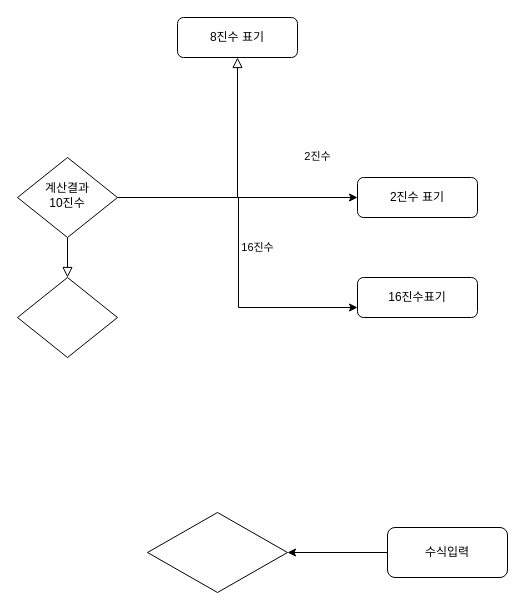
Image size: 525x610. Some labels were removed from this diagram. The centre of each missing label's shape, as x and y in pixels:
계산시작: the point at 67,317
문자열로 변환(문자): the point at 217,552
